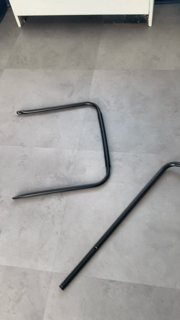C pipe: (12, 101, 114, 203)
